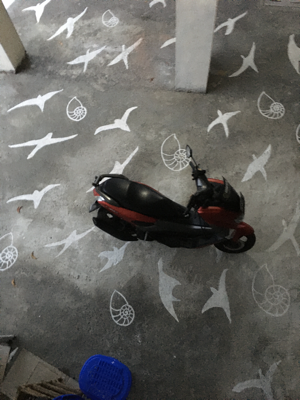moto: (86, 161, 261, 258)
